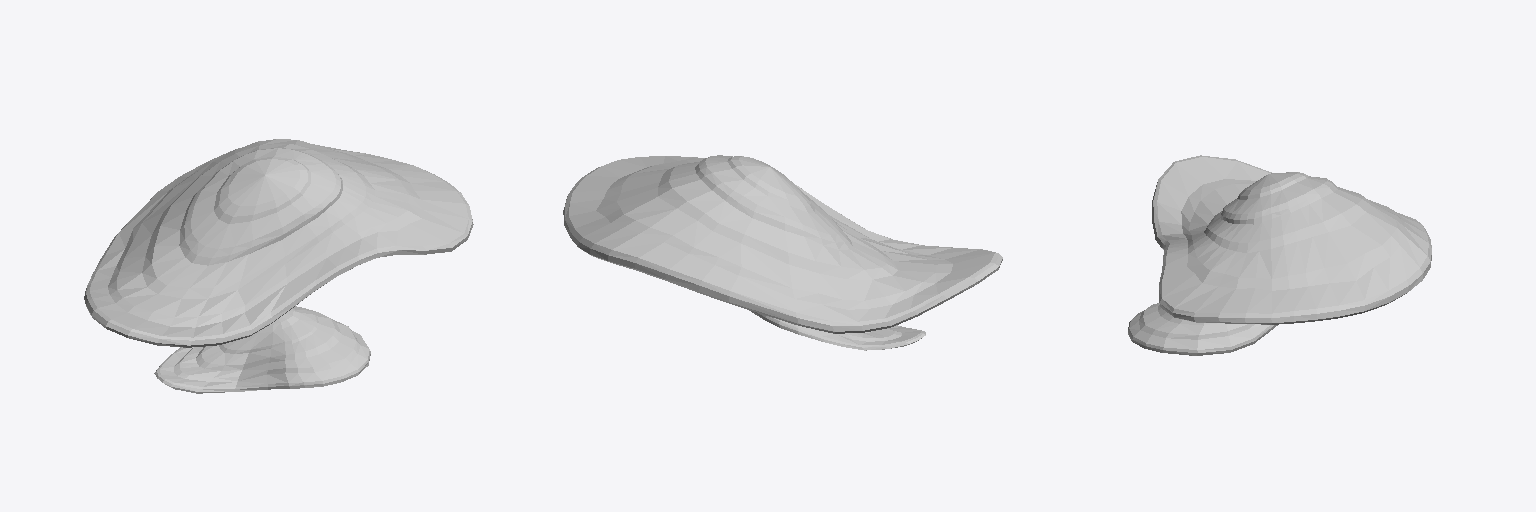
Rendered from top.obj.
3 views of the same model, side by side, from view 1: azimuth 30°, elevation 25°; view 2: azimuth 150°, elevation 25°; view 3: azimuth 270°, elevation 25° (orthographic).
Visible parts, largest first — view 1: Mesh; view 2: Mesh; view 3: Mesh.
Part boxes in pixels (x1,y1,x2,y2): Mesh: (84,139,473,393); Mesh: (563,155,1002,350); Mesh: (1128,155,1431,355).
Bounding box in the file's own units: 0.512 × 0.2281 × 0.3539.